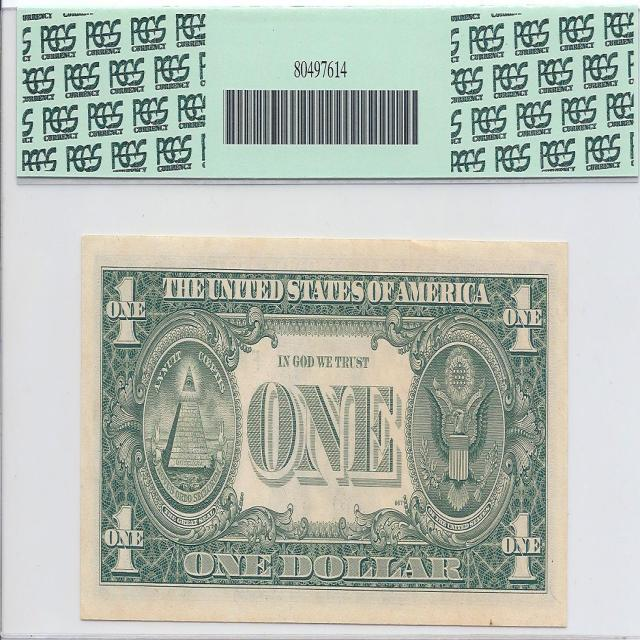1-Back: (77, 238, 562, 620)
